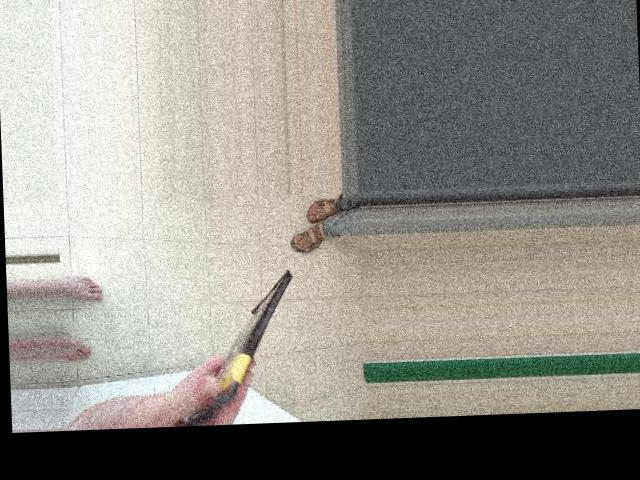chocolate: (137, 241, 288, 353)
